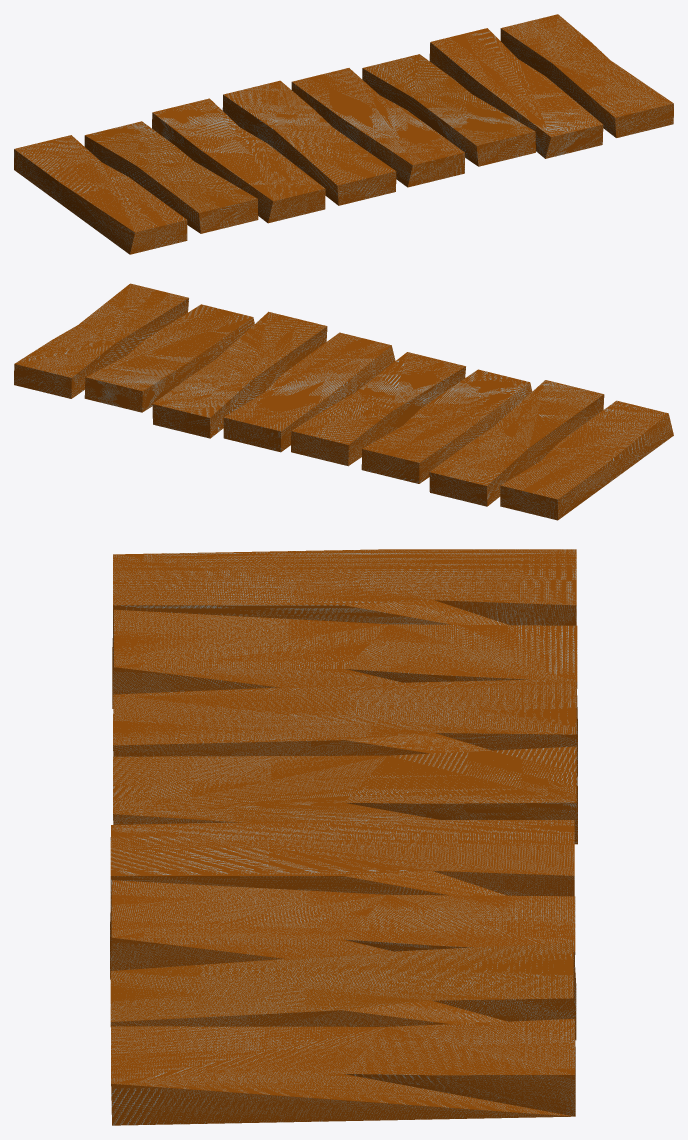
The model's file is Bridge_Small_Timber_01.fbx.
The picture shows the model from 3 angles, top to bottom: view 1: azimuth 30°, elevation 25°; view 2: azimuth 150°, elevation 25°; view 3: azimuth 270°, elevation 25°; orthographic projection. The views are drawn at different scales.
Parts seen in each view (by area): view 1: Model; view 2: Model; view 3: Model.
Boxes of the visible parts, <box> form: Model: <box>14,14,673,254</box>; Model: <box>14,283,673,520</box>; Model: <box>110,549,577,1125</box>.
Size of the model in its own units: 774 by 44.51 by 288.
